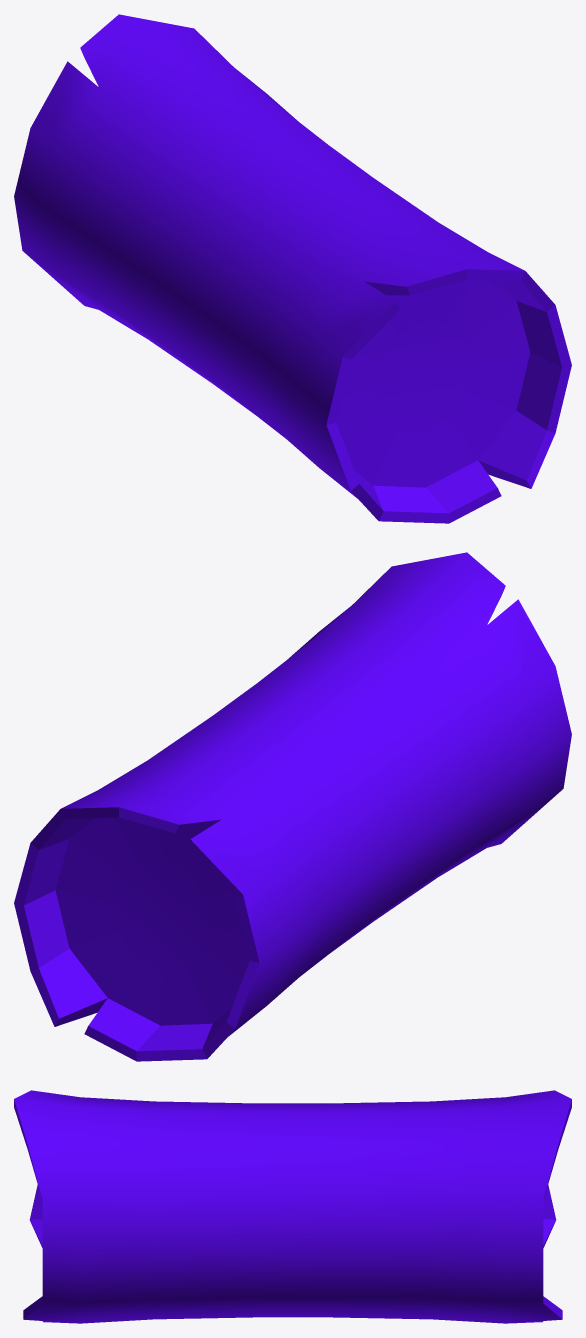
Rendered from Broken Log No Branch.fbx.
The picture shows the model from 3 angles, top to bottom: view 1: azimuth 30°, elevation 25°; view 2: azimuth 150°, elevation 25°; view 3: azimuth 270°, elevation 25°; orthographic projection. The views are drawn at different scales.
Parts seen in each view (by area): view 1: Cylinder2630; view 2: Cylinder2630; view 3: Cylinder2630.
Boxes of the visible parts, left/top/right/bottom form: Cylinder2630: left=14, top=14, right=571, bottom=523; Cylinder2630: left=14, top=552, right=571, bottom=1061; Cylinder2630: left=14, top=1090, right=571, bottom=1323.
Size of the model in its own units: 2.15 by 2.23 by 5.27.
